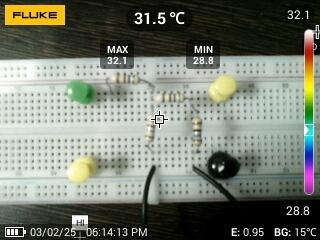resistor: (188, 115, 205, 150), (143, 113, 158, 146), (108, 71, 143, 85), (154, 91, 189, 105)
